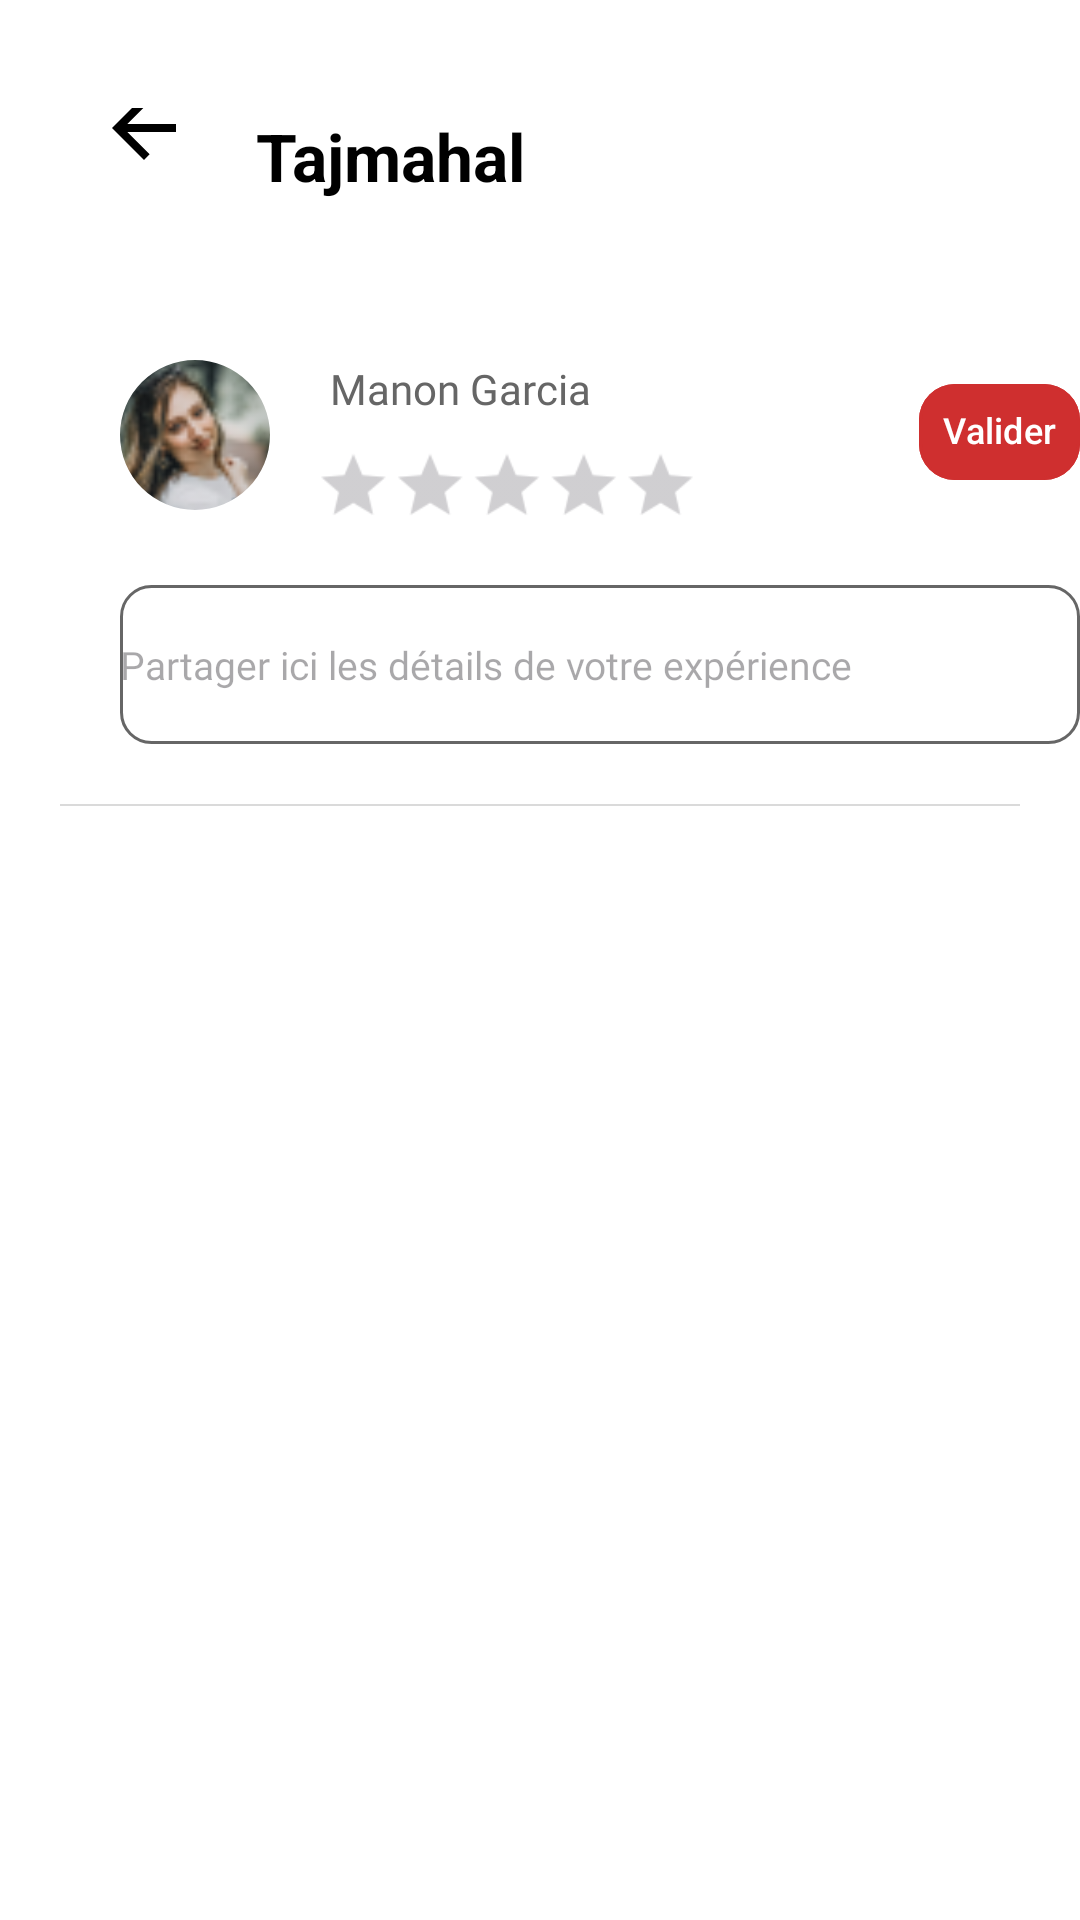

Where icons sit on this 1080×1920 app screen, as [left=x1, top=y1, right=x2, bottom=y2]:
avatarpost: [left=120, top=360, right=270, bottom=510]
